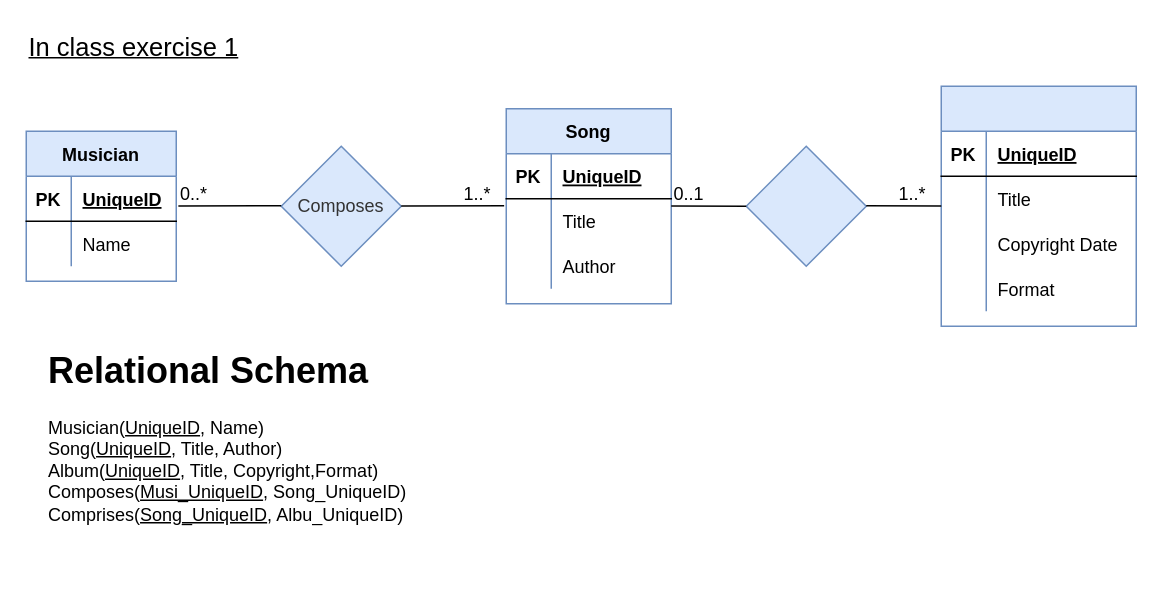
The diagram is 1163 pixels wide and 606 high, and some of its shapes have lost their labels. The box of each missing label's shape, as (x1, y1, x2, y2) in pixels:
Album: (940, 85, 1136, 326)
Comprises: (745, 145, 866, 266)
